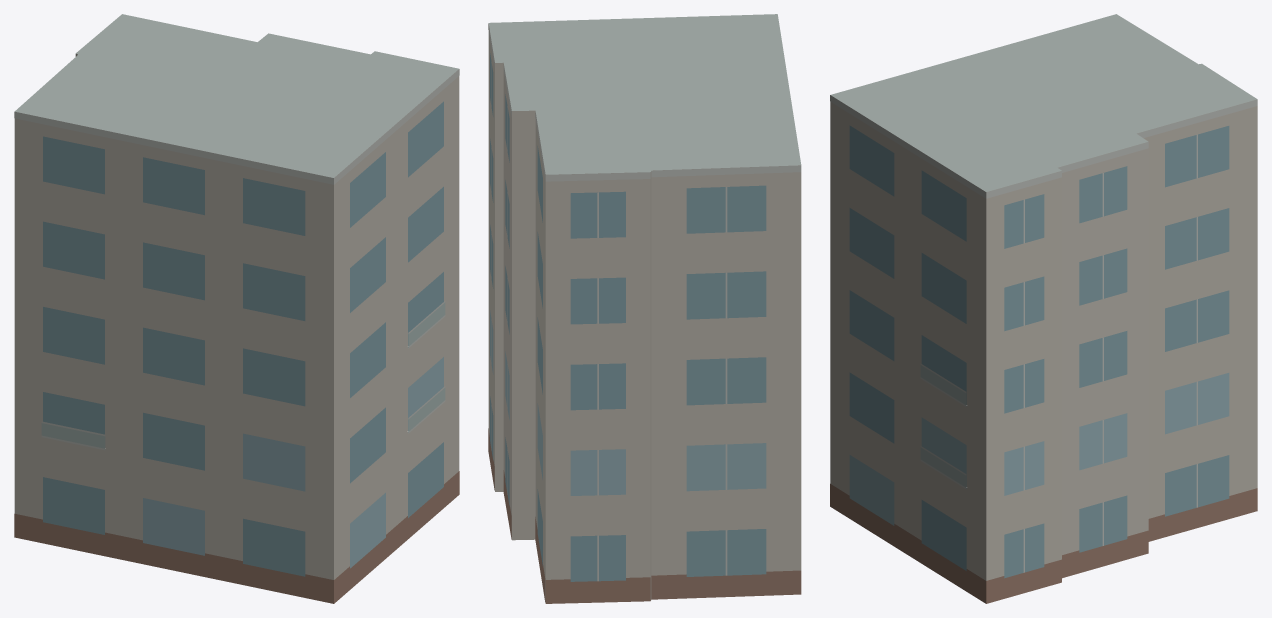
File: survey-upis-32738932.glb
The picture shows the model from 3 angles, left to right: view 1: azimuth 30°, elevation 25°; view 2: azimuth 150°, elevation 25°; view 3: azimuth 270°, elevation 25°; orthographic projection. The views are drawn at different scales.
Visible parts, largest first — view 1: survey-upis-32738932.tmp; view 2: survey-upis-32738932.tmp; view 3: survey-upis-32738932.tmp.
Part boxes in pixels (<box>): survey-upis-32738932.tmp: <box>14,14,459,603</box>; survey-upis-32738932.tmp: <box>488,14,801,603</box>; survey-upis-32738932.tmp: <box>830,14,1257,603</box>.
Size of the model in its own units: 14.21 by 15.3 by 14.41.
